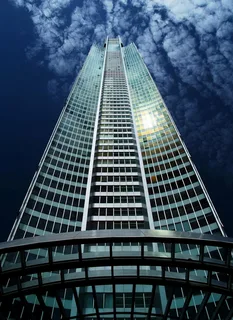high_rise_building: (77, 37, 175, 241)
